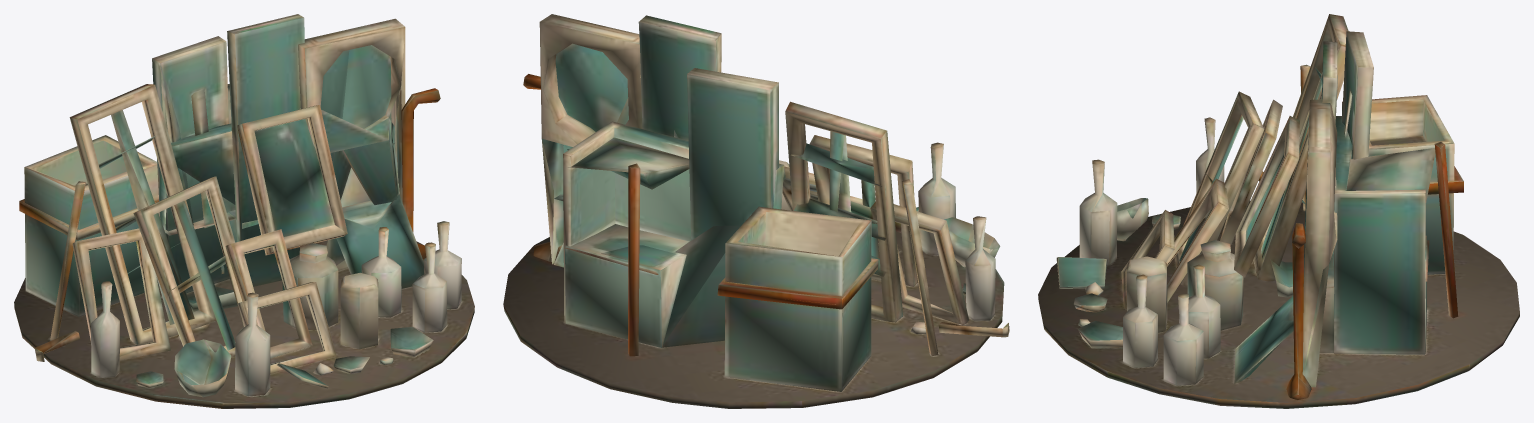
Rendered from salvage-glass.glb.
3 renders of one model, left to right at view 1: azimuth 30°, elevation 25°; view 2: azimuth 150°, elevation 25°; view 3: azimuth 270°, elevation 25°, orthographic. The views are drawn at different scales.
Parts seen in each view (by area): view 1: salvage-glass; view 2: salvage-glass; view 3: salvage-glass.
Boxes of the visible parts, <box> form: salvage-glass: <box>14,14,474,408</box>; salvage-glass: <box>503,14,1009,408</box>; salvage-glass: <box>1038,14,1519,408</box>.
Size of the model in its own units: 0.85 by 0.5178 by 0.8073.
Materials: 1 (1 with a texture image).
